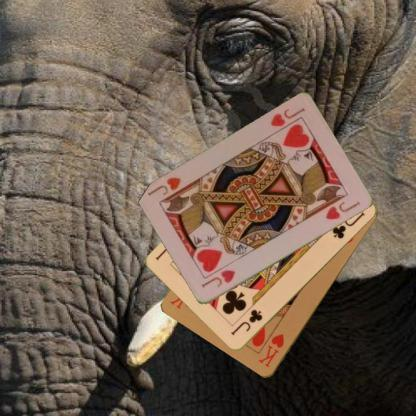Jc: (228, 307, 264, 337)
Jh: (268, 105, 306, 137), (198, 268, 236, 290)
Kh: (255, 331, 286, 369)
